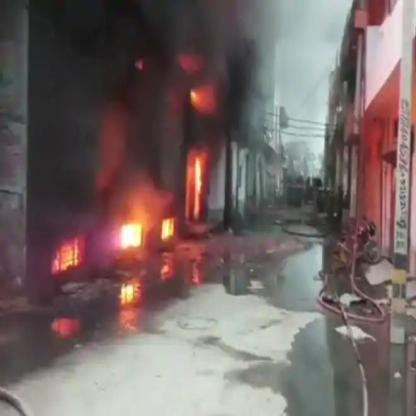fire: (54, 231, 83, 274), (118, 218, 147, 256), (192, 152, 204, 218), (160, 214, 180, 245), (190, 84, 210, 109)
